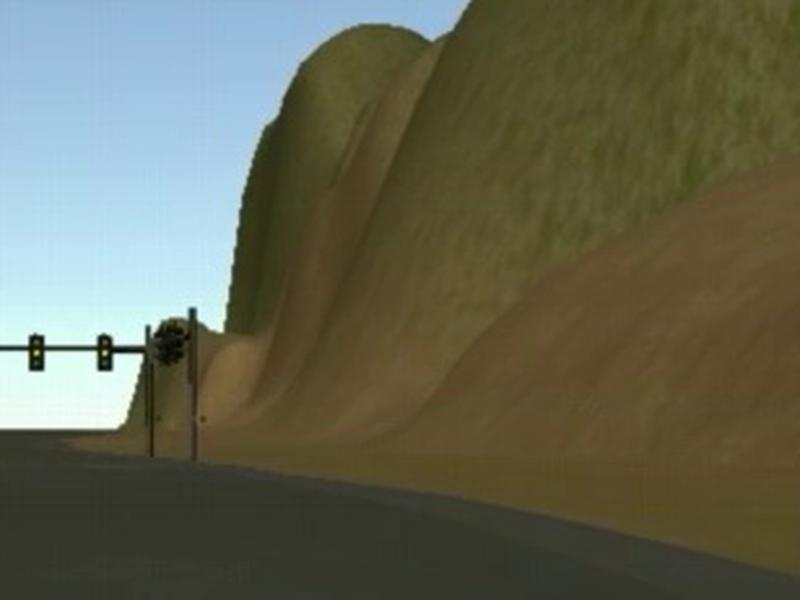Yellow: (28, 335, 45, 371), (97, 334, 111, 370)
